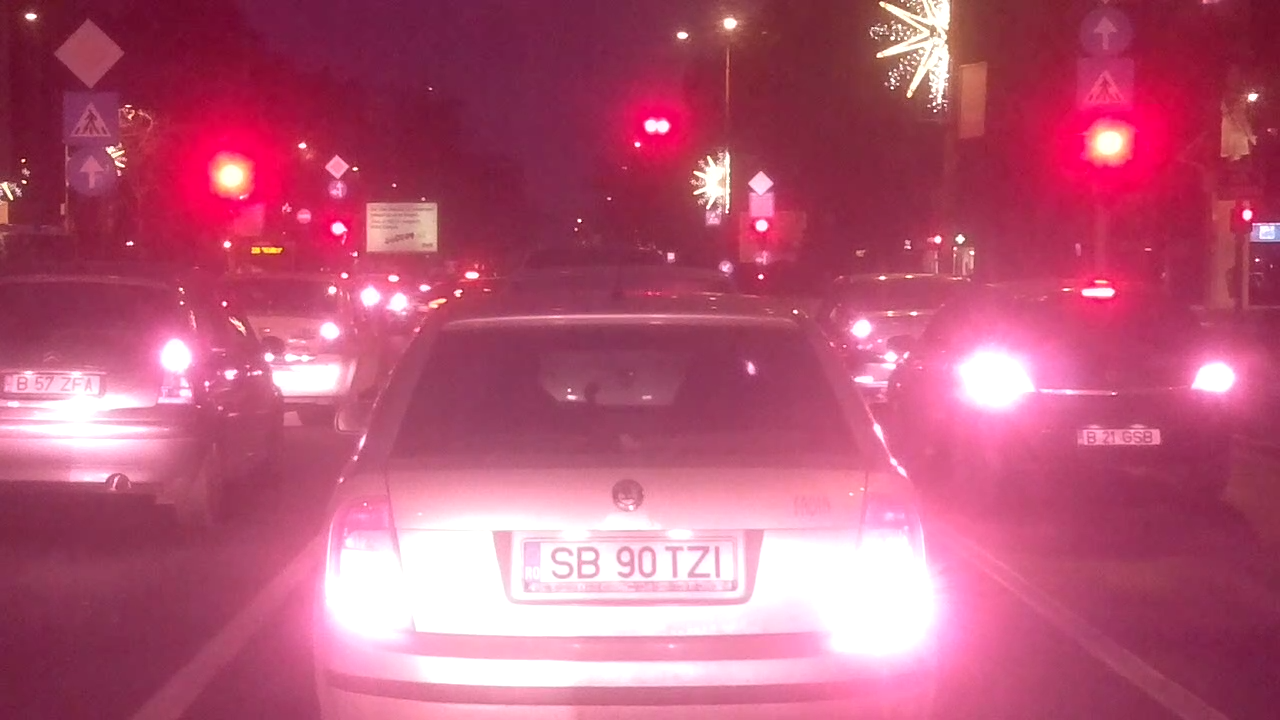license-plate: (513, 535, 744, 588), (0, 370, 103, 398), (1074, 425, 1163, 448)
